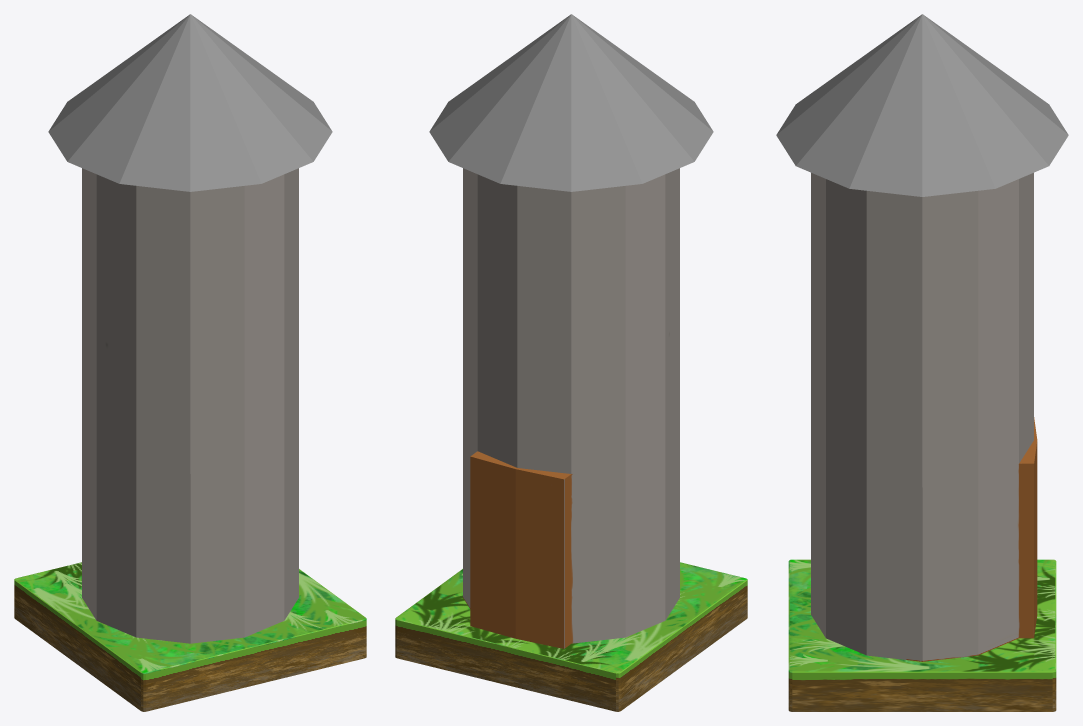
File: Silo.glb
The picture shows the model from 3 angles, left to right: view 1: azimuth 30°, elevation 25°; view 2: azimuth 150°, elevation 25°; view 3: azimuth 270°, elevation 25°; orthographic projection. The views are drawn at different scales.
Visible parts, largest first — view 1: Cylinder, Cone, Cube; view 2: Cylinder, Cone, Cube; view 3: Cylinder, Cone, Cube.
Boxes of the visible parts, x1=… form: Cylinder: x1=82, y1=168, x2=298, y2=643; Cone: x1=48, y1=14, x2=332, y2=191; Cube: x1=14, y1=562, x2=366, y2=711; Cylinder: x1=463, y1=168, x2=679, y2=648; Cone: x1=429, y1=14, x2=713, y2=191; Cube: x1=395, y1=562, x2=747, y2=711; Cylinder: x1=811, y1=173, x2=1037, y2=661; Cone: x1=776, y1=14, x2=1068, y2=196; Cube: x1=788, y1=559, x2=1056, y2=711.
Size of the model in its own units: 3.28 by 7.94 by 3.28.
Materials: 3 (2 with a texture image).
